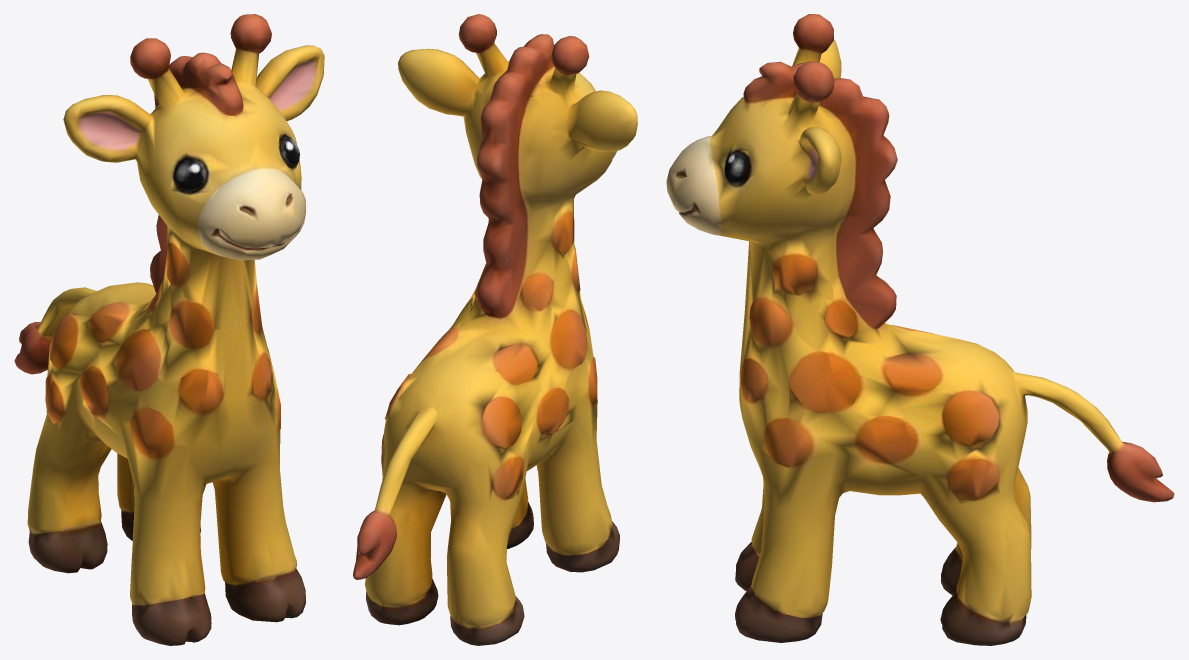
Rendered from girafa.glb.
The picture shows the model from 3 angles, left to right: view 1: azimuth 30°, elevation 25°; view 2: azimuth 150°, elevation 25°; view 3: azimuth 270°, elevation 25°; orthographic projection. The views are drawn at different scales.
Parts seen in each view (by area): view 1: personagem; view 2: personagem; view 3: personagem.
Part boxes in pixels (x1,y1,x2,y2): personagem: (14, 14, 324, 645); personagem: (353, 14, 637, 645); personagem: (666, 14, 1174, 645).
Bounding box in the file's own units: 0.4542 × 0.9792 × 0.7846.
1 material, 1 textured.
